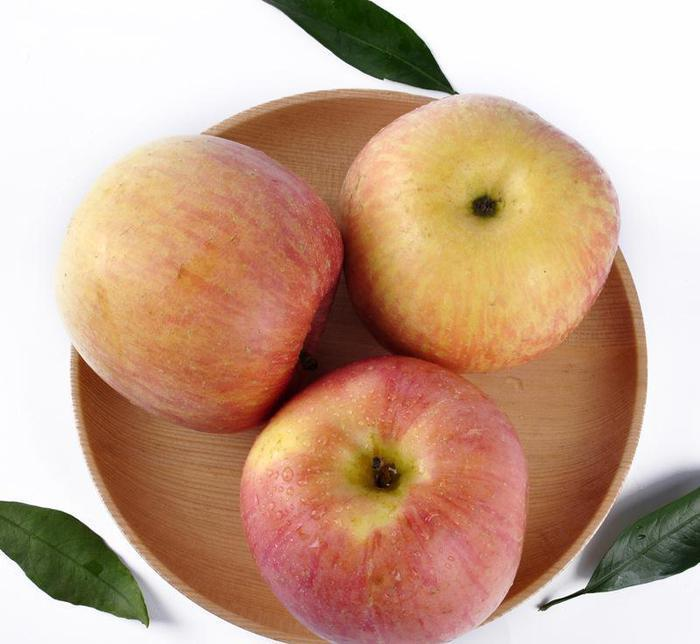apple: (53, 123, 362, 447), (315, 95, 615, 375), (237, 353, 529, 640)
